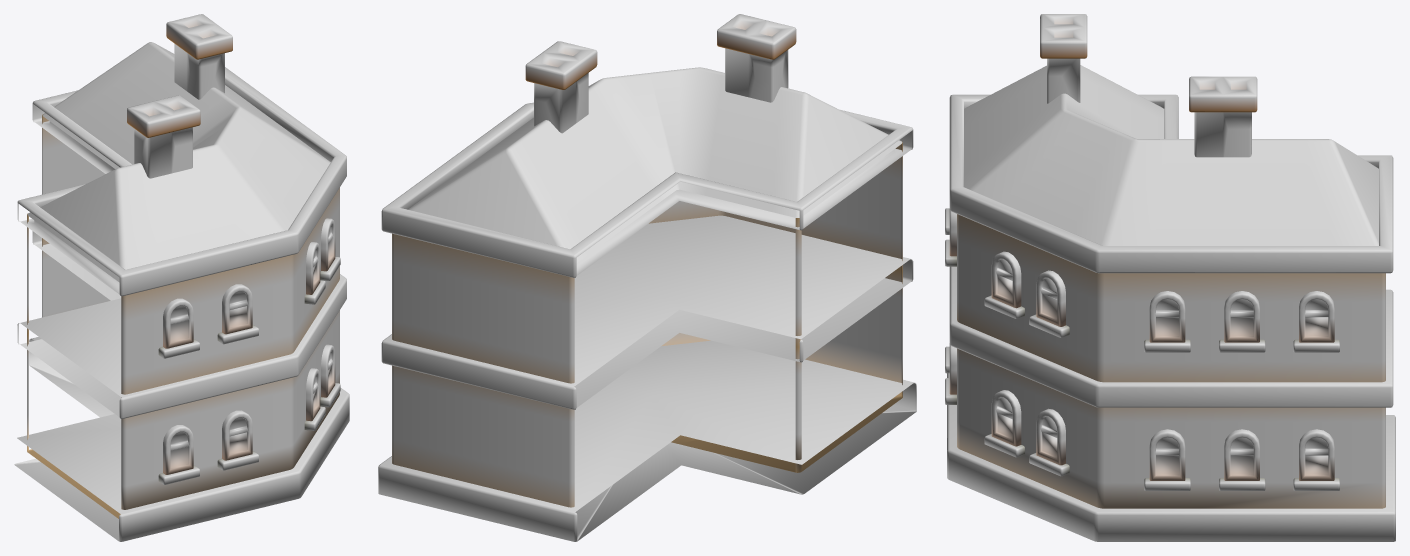
The model's file is Building_040.fbx.
3 renders of one model, left to right at view 1: azimuth 30°, elevation 25°; view 2: azimuth 150°, elevation 25°; view 3: azimuth 270°, elevation 25°, orthographic. The views are drawn at different scales.
Parts seen in each view (by area): view 1: Building_040; view 2: Building_040; view 3: Building_040.
Boxes of the visible parts, bbox=[...] form: Building_040: bbox=[14, 14, 349, 541]; Building_040: bbox=[378, 14, 916, 541]; Building_040: bbox=[945, 14, 1395, 541].
Size of the model in its own units: 1061 by 1255 by 1261.
